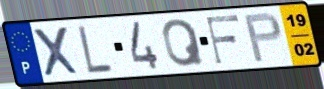4: (130, 20, 161, 71)
F: (204, 13, 242, 67)
L: (76, 24, 116, 74)
P: (242, 11, 284, 65)
Q: (161, 18, 207, 69)
X: (30, 25, 83, 79)
